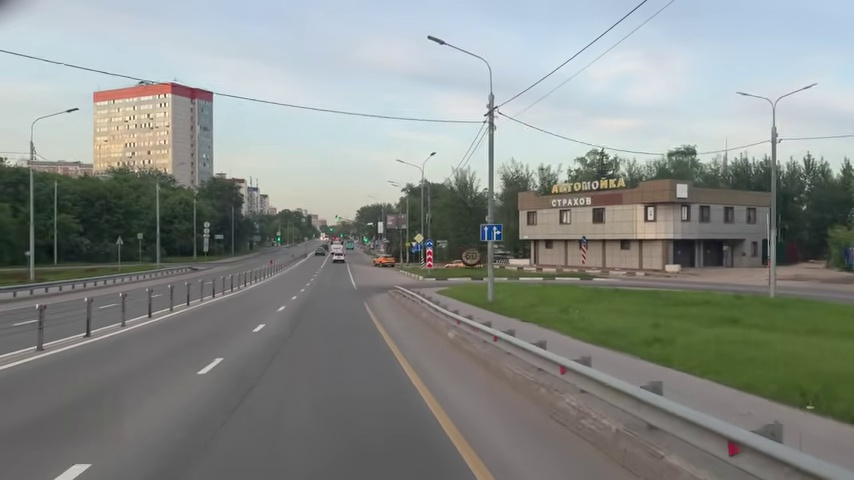apagada: (425, 32, 445, 49), (799, 81, 817, 94), (64, 104, 79, 116), (735, 88, 749, 100)
